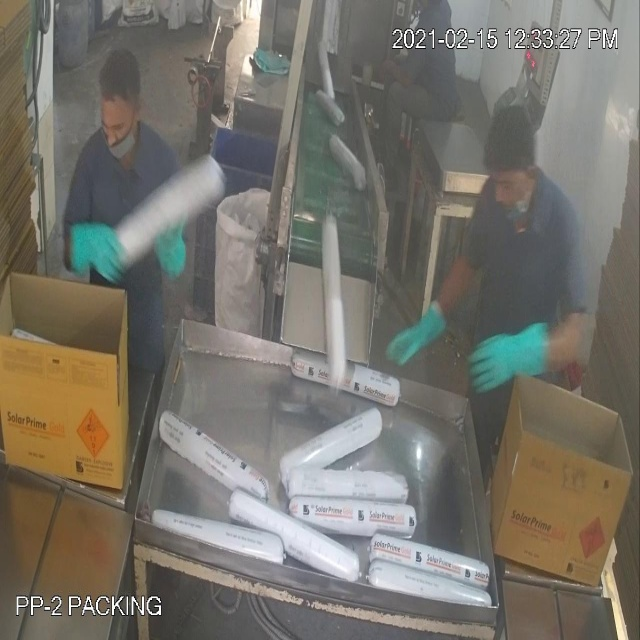Guantes: (463, 315, 568, 406), (380, 275, 452, 383), (70, 211, 124, 284)
Sin_guantes: (370, 52, 415, 98)
